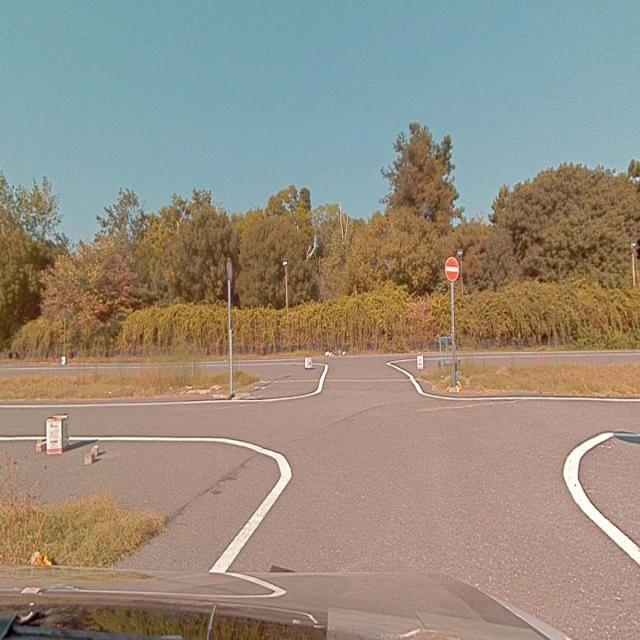girisyok: (445, 256, 458, 280)
